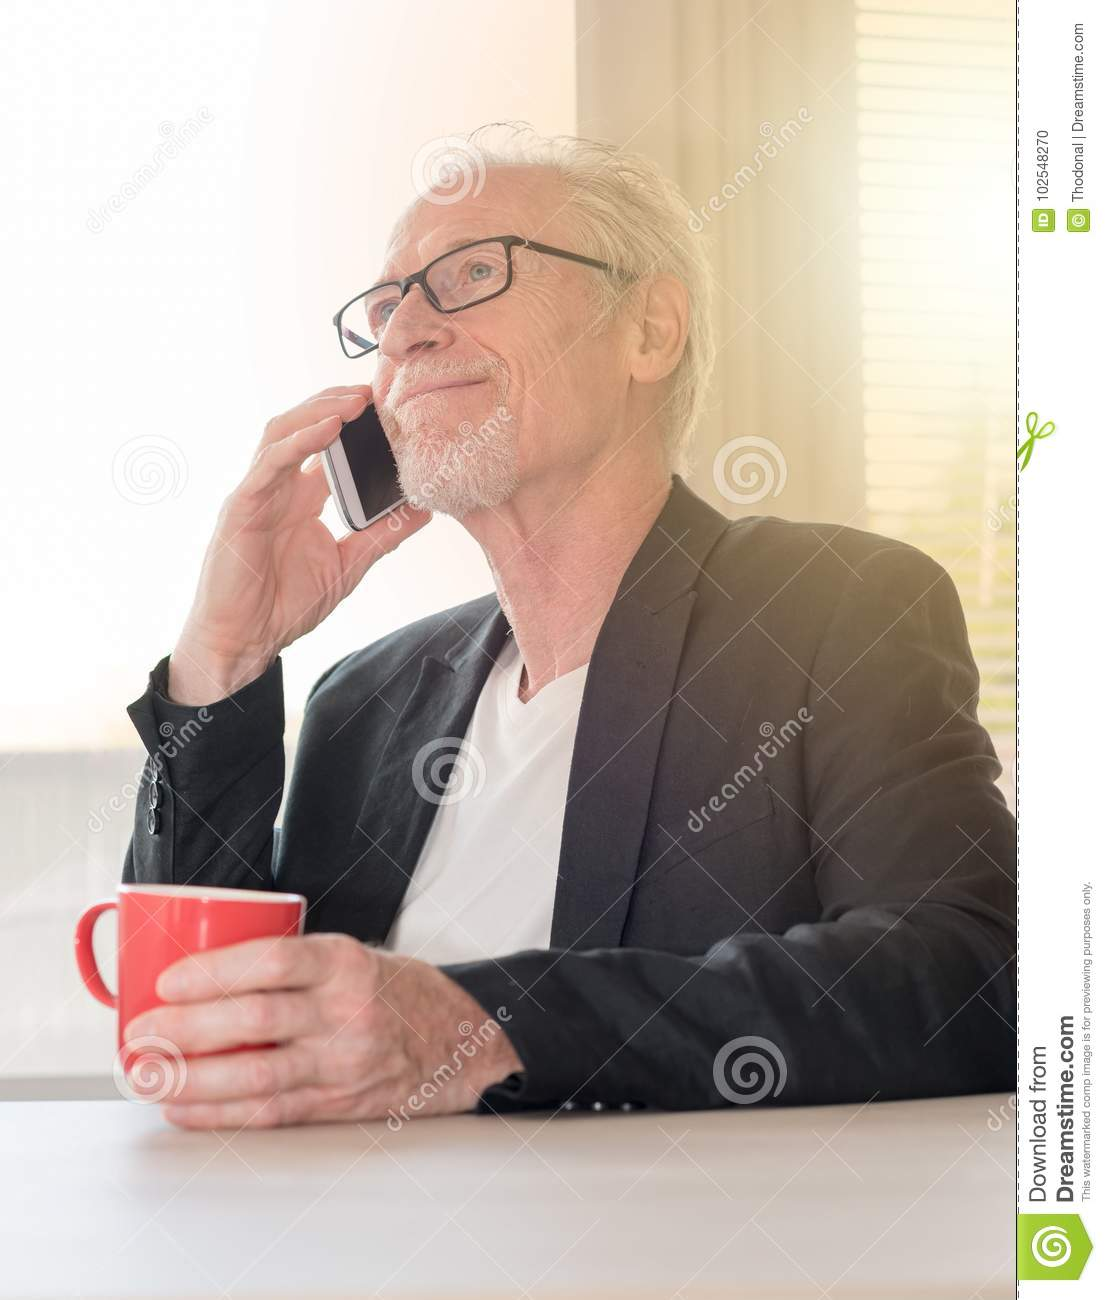phone: (316, 392, 402, 546)
talk: (184, 210, 540, 649)
